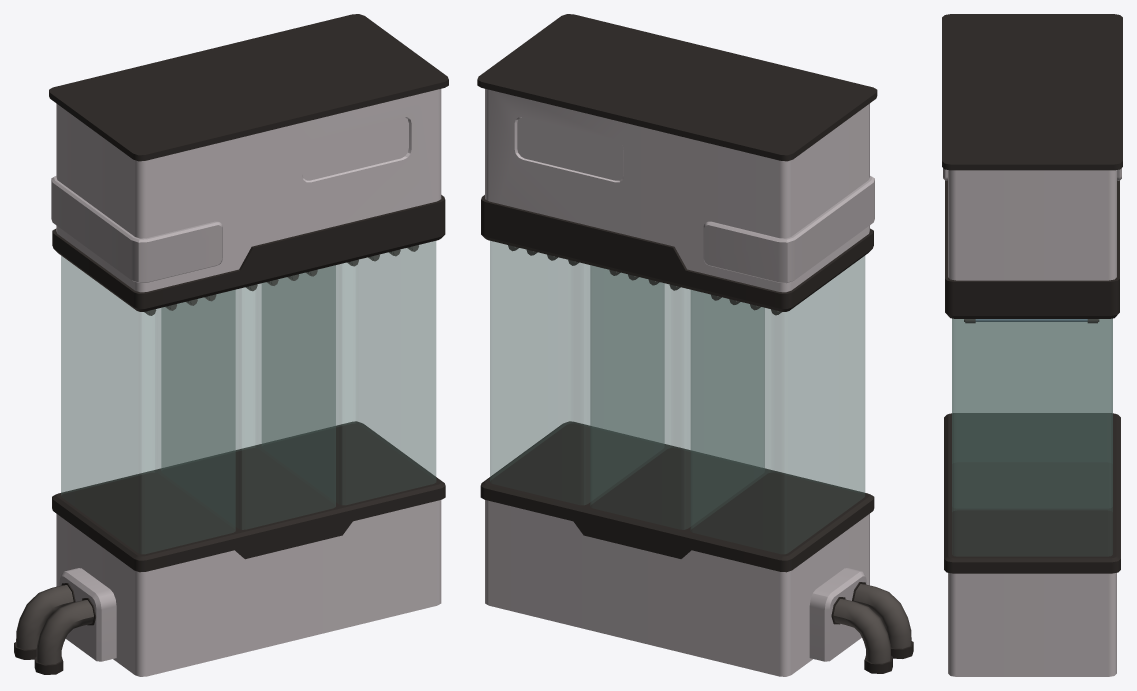
The model's file is Plant_Incubator_.fbx.
3 views of the same model, side by side, from view 1: azimuth 30°, elevation 25°; view 2: azimuth 150°, elevation 25°; view 3: azimuth 270°, elevation 25° (orthographic).
Visible parts, largest first — view 1: Plant_Incubator; view 2: Plant_Incubator; view 3: Plant_Incubator.
Part boxes in pixels (x1,y1,x2,y2): Plant_Incubator: (14,14,448,676); Plant_Incubator: (477,14,913,676); Plant_Incubator: (942,14,1122,676).
Bounding box in the file's own units: 154 × 203 × 64.57.
